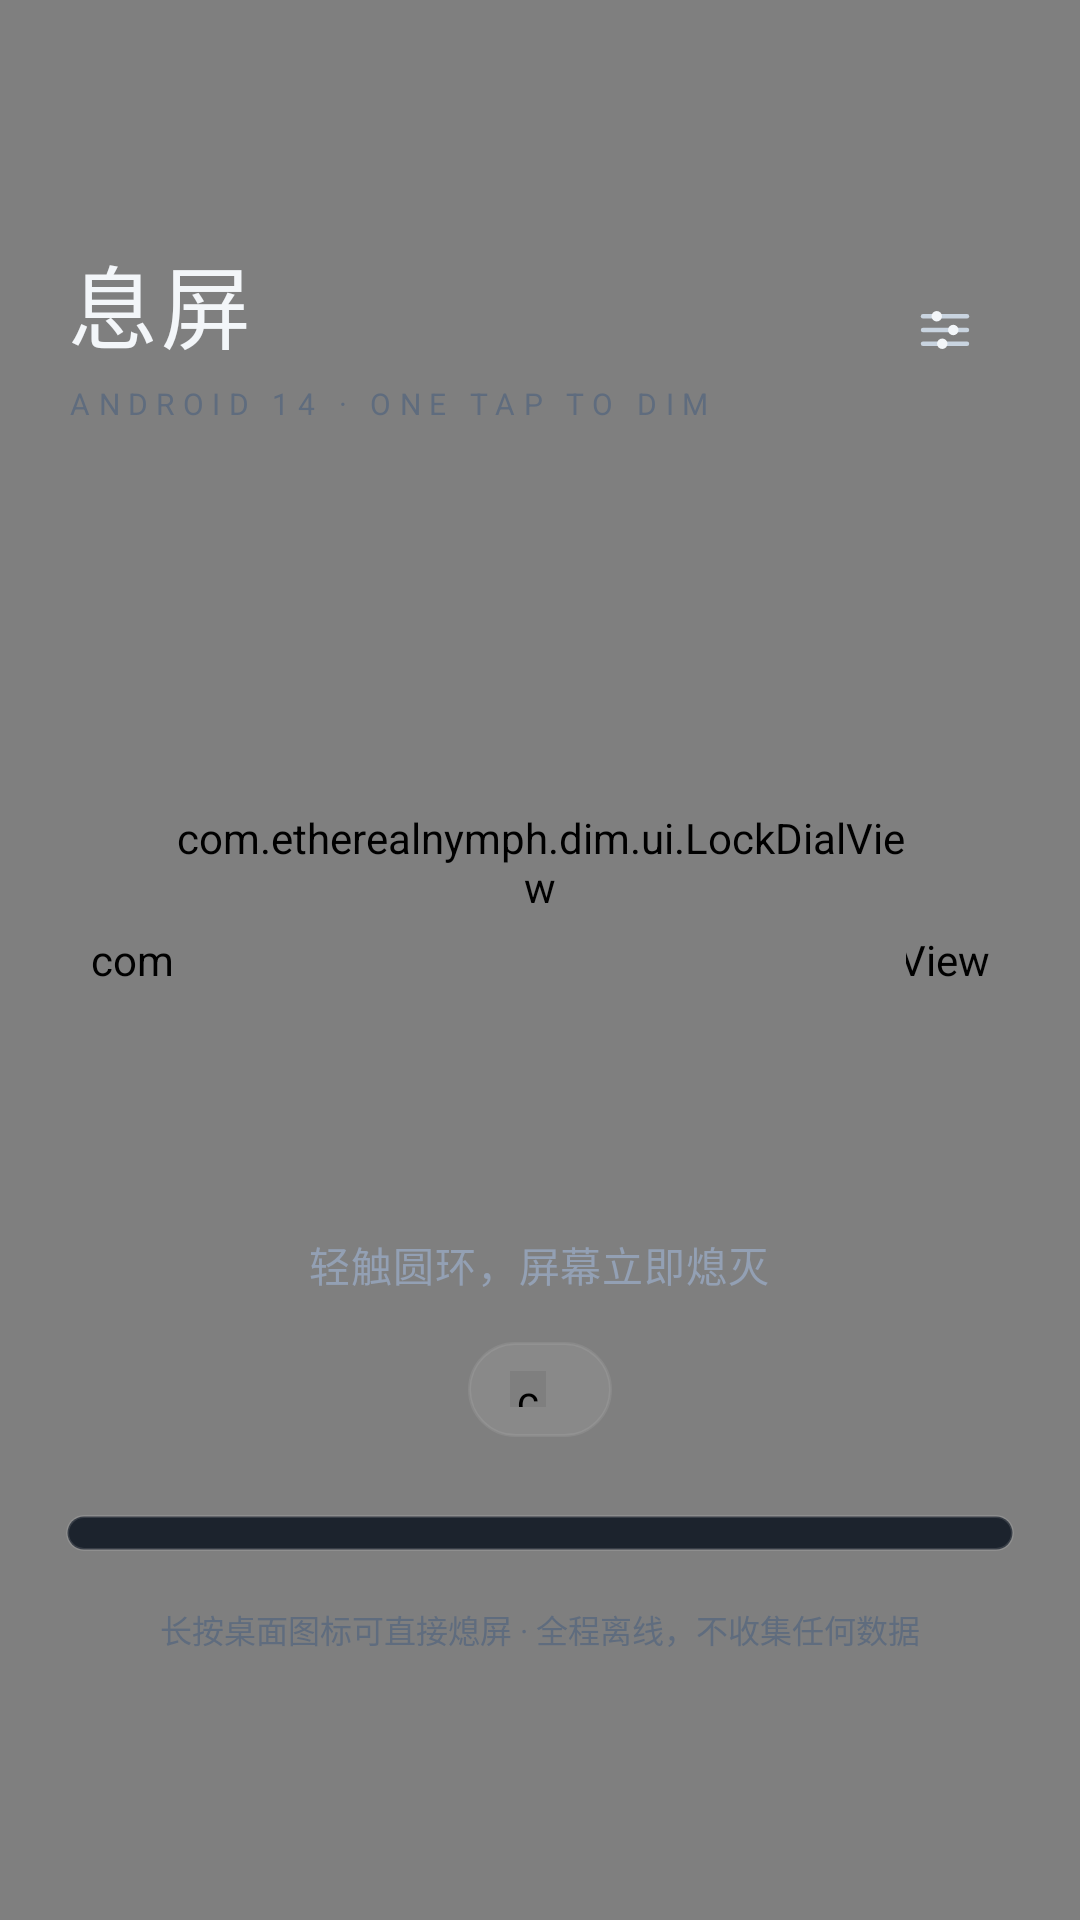

Where to tap for icons on this 1080 × 1920 app screen, as point (x, y):
设置: point (945, 330)
